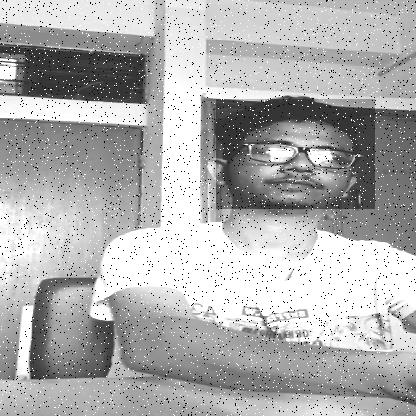Normal: (216, 99, 375, 209)
